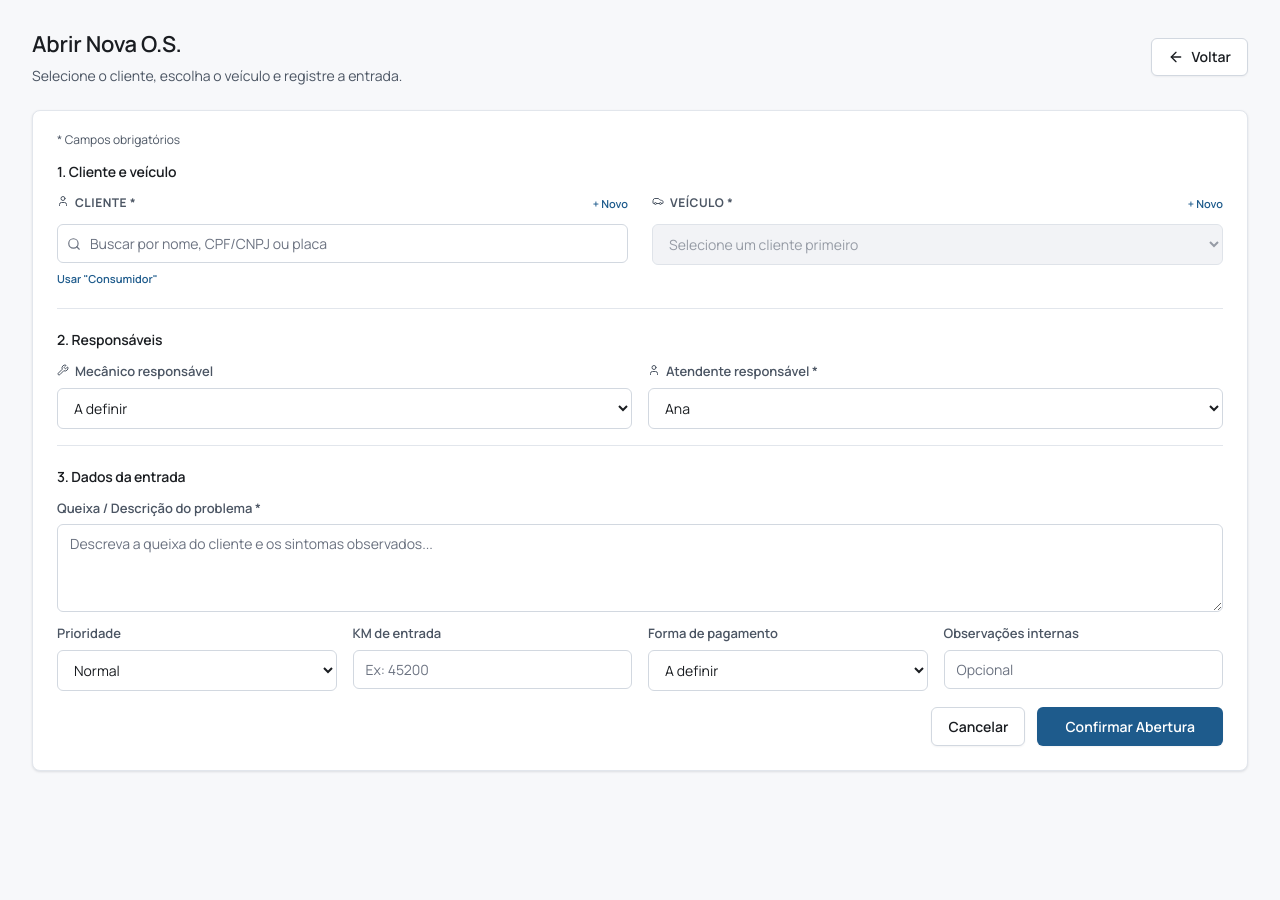
Test case: Tela de Abrir O.S. › selecionar um resultado troca a busca pelo cliente escolhido
Type "maria" into the field named "Buscar cliente por nome". click: x=342, y=244
box: left=57, top=224, right=628, bottom=263
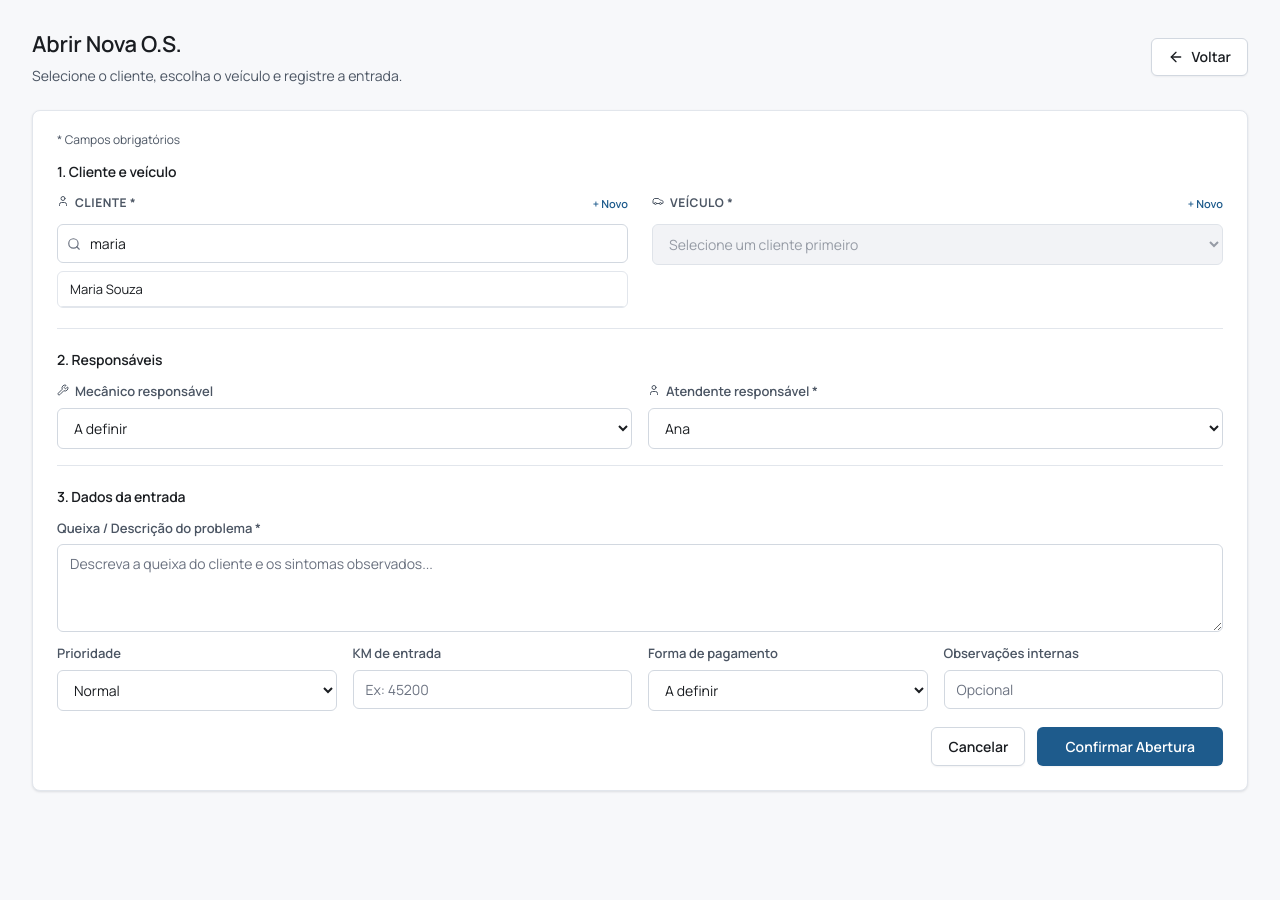
Click the button "Maria Souza". click: x=106, y=289
box: left=58, top=272, right=627, bottom=307
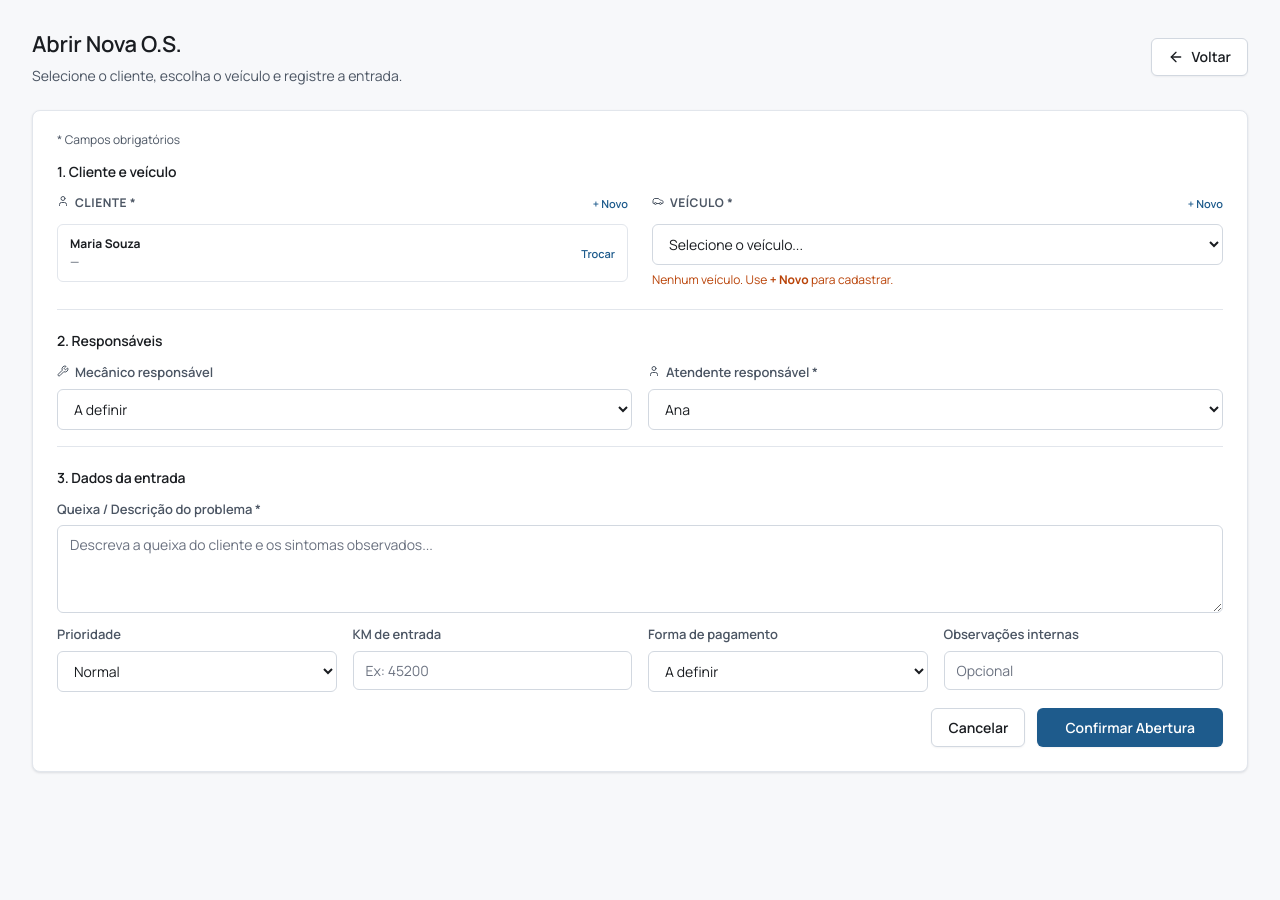
Check: the text "Maria Souza" is shown, box left=70, top=235, right=140, bottom=252
Check: the button "Trocar" is shown, box left=581, top=246, right=615, bottom=260
